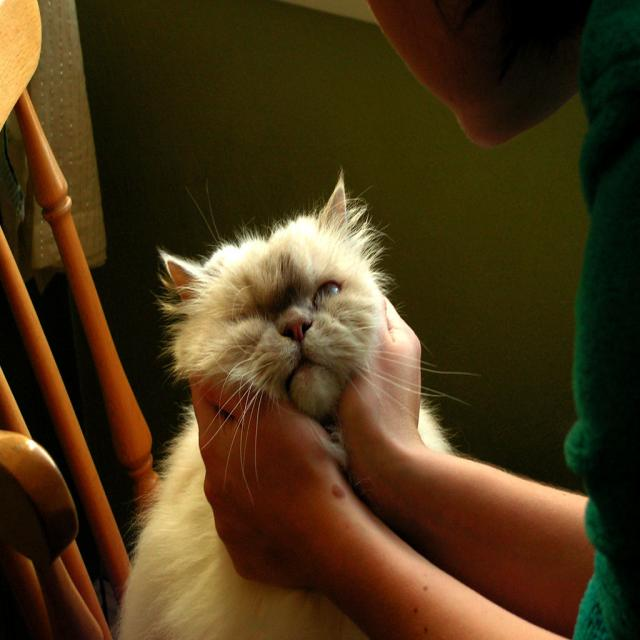Cat: (114, 162, 458, 638)
